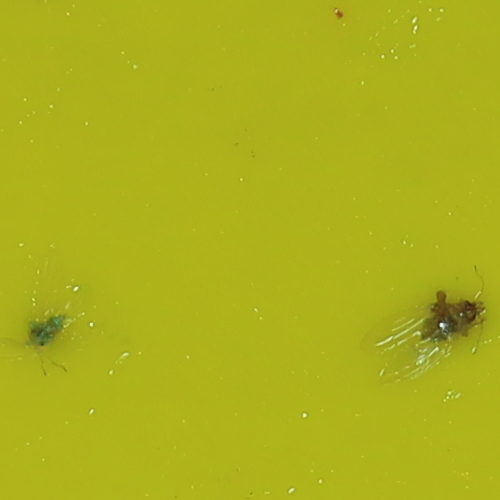Glycaspis: (422, 298, 486, 340), (27, 314, 69, 346)
